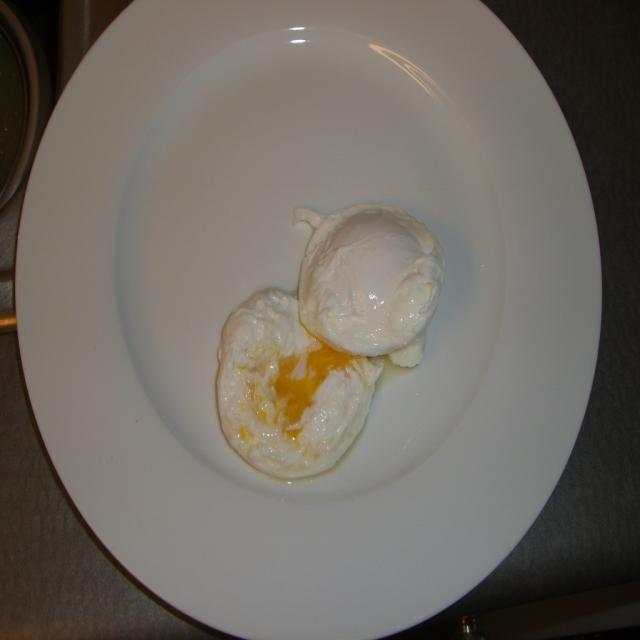ceramic plate: (11, 0, 606, 640)
